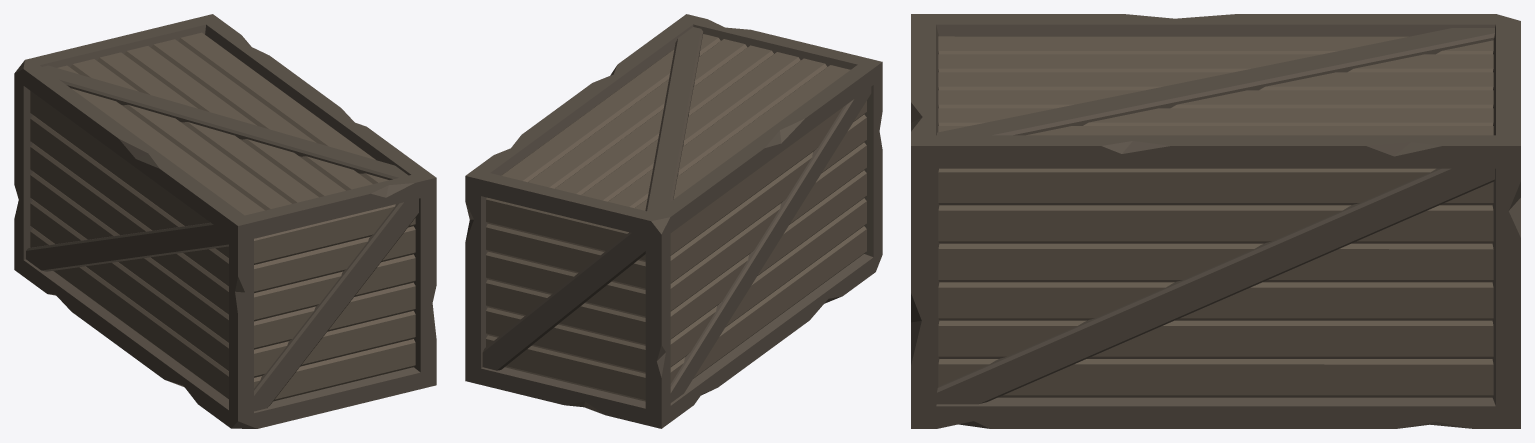
File: Prop_Crate_04.fbx
The picture shows the model from 3 angles, left to right: view 1: azimuth 30°, elevation 25°; view 2: azimuth 150°, elevation 25°; view 3: azimuth 270°, elevation 25°; orthographic projection. The views are drawn at different scales.
Parts seen in each view (by area): view 1: Prop_Crate_04_LOD0; view 2: Prop_Crate_04_LOD0; view 3: Prop_Crate_04_LOD0.
Boxes of the visible parts, left/top/right/bottom form: Prop_Crate_04_LOD0: left=14, top=14, right=436, bottom=428; Prop_Crate_04_LOD0: left=465, top=14, right=882, bottom=428; Prop_Crate_04_LOD0: left=911, top=14, right=1520, bottom=428.
Size of what is drawn, in the model's own units: 67.2 by 67.2 by 131.
